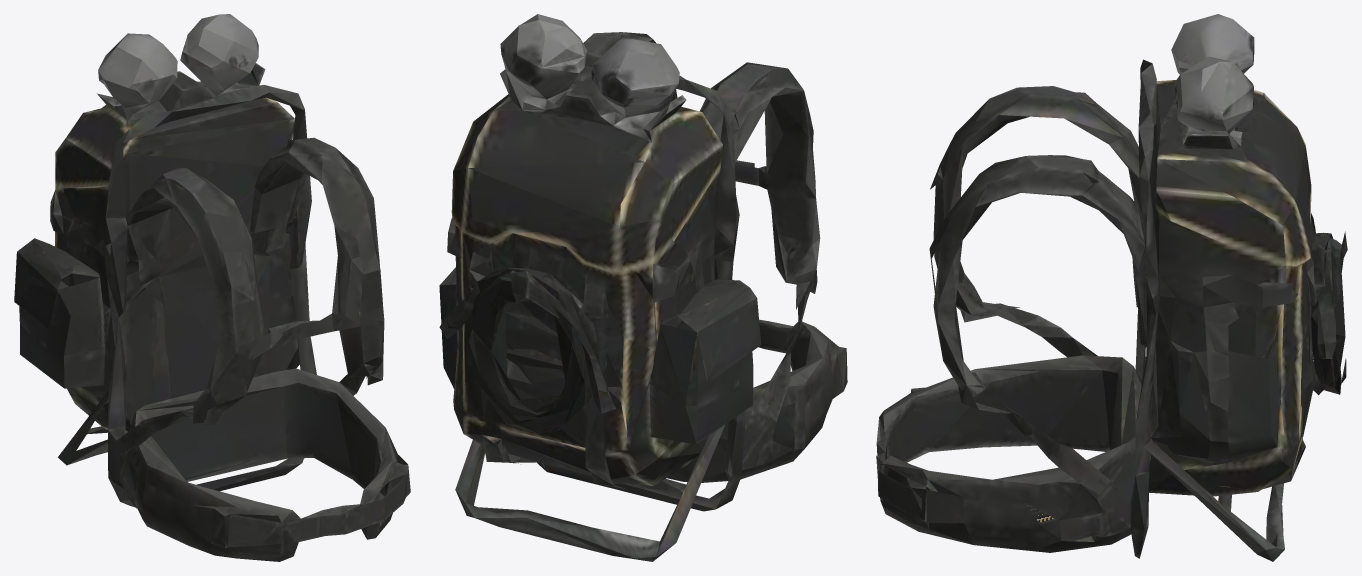
Rendered from banked-pack.glb.
3 renders of one model, left to right at view 1: azimuth 30°, elevation 25°; view 2: azimuth 150°, elevation 25°; view 3: azimuth 270°, elevation 25°, orthographic. The views are drawn at different scales.
Visible parts, largest first — view 1: Mesh_0; view 2: Mesh_0; view 3: Mesh_0.
Part boxes in pixels (x1,y1,x2,y2): Mesh_0: [14, 14, 410, 561]; Mesh_0: [439, 14, 847, 561]; Mesh_0: [876, 14, 1347, 561].
Bounding box in the file's own units: 0.3119 × 0.5 × 0.4424.
1 material, 1 textured.
